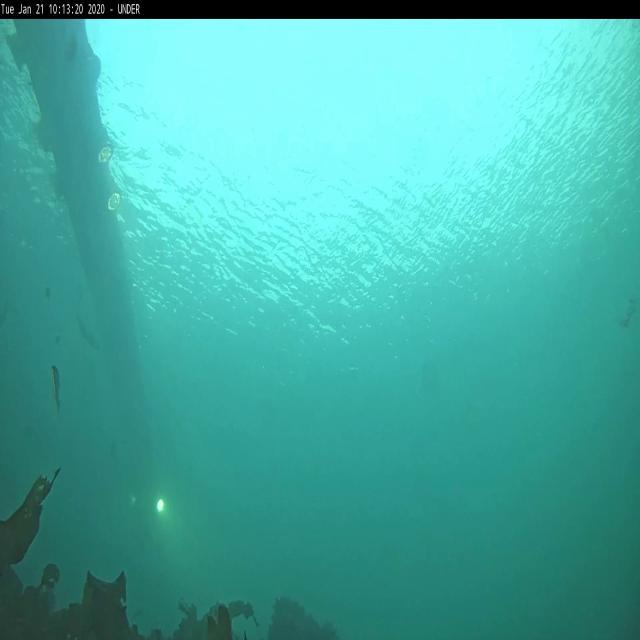fish: (74, 313, 102, 355), (50, 364, 62, 418)
